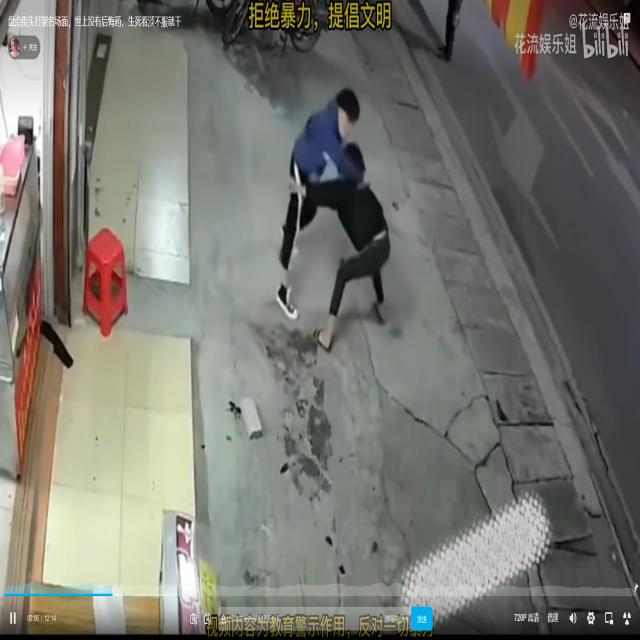fight: (280, 79, 398, 352)
